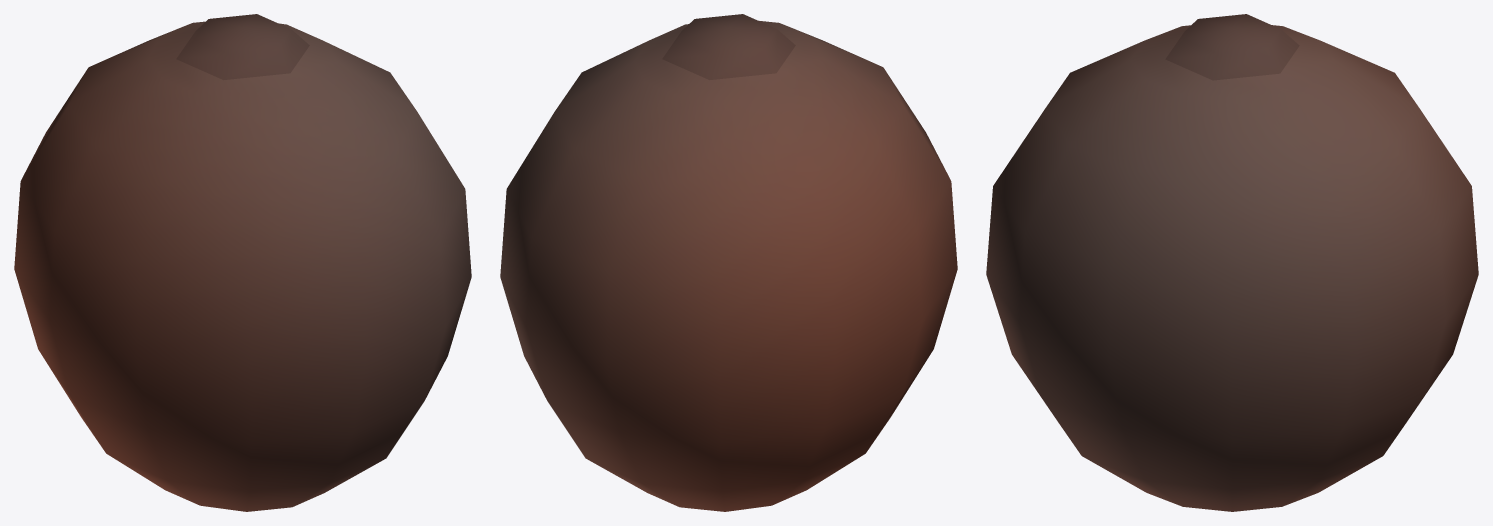
The model's file is kiwi_001.fbx.
3 views of the same model, side by side, from view 1: azimuth 30°, elevation 25°; view 2: azimuth 150°, elevation 25°; view 3: azimuth 270°, elevation 25° (orthographic).
Visible parts, largest first — view 1: kiwi_001; view 2: kiwi_001; view 3: kiwi_001.
Boxes of the visible parts, left/top/right/bottom form: kiwi_001: left=14, top=14, right=471, bottom=511; kiwi_001: left=500, top=14, right=957, bottom=511; kiwi_001: left=986, top=14, right=1478, bottom=511.
Size of the model in its own units: 5.75 by 6.31 by 6.58.
